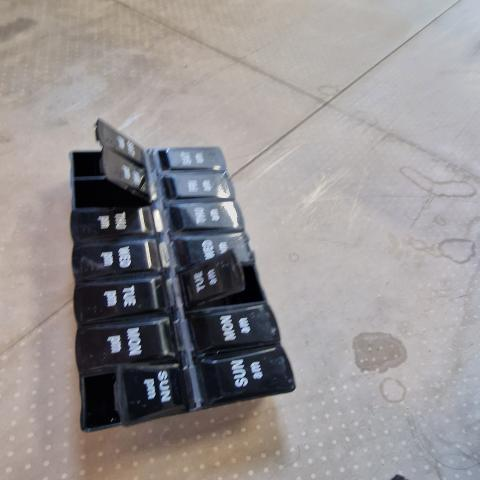Open: (192, 252, 264, 312), (74, 157, 153, 208), (84, 364, 121, 430), (70, 120, 102, 176)
